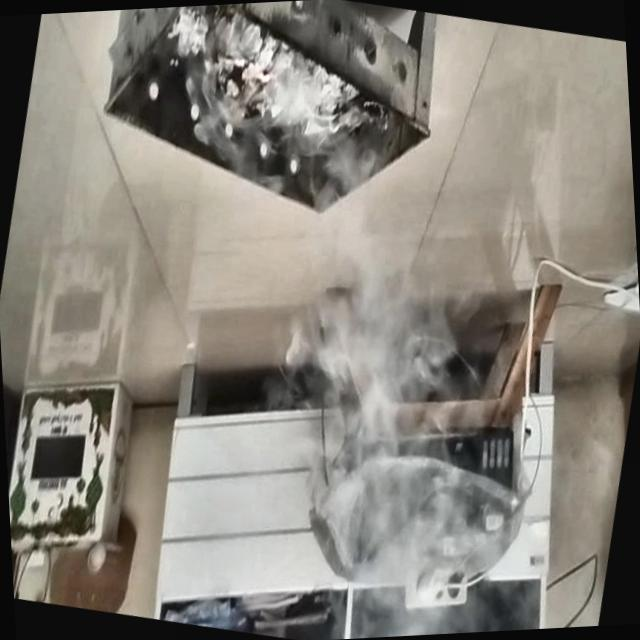smoke: (272, 333, 539, 640), (158, 16, 446, 290)
